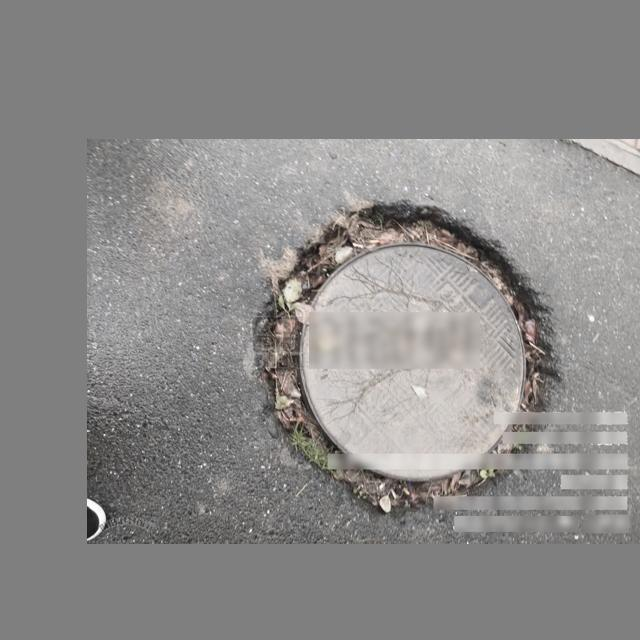circle: (253, 204, 563, 509)
